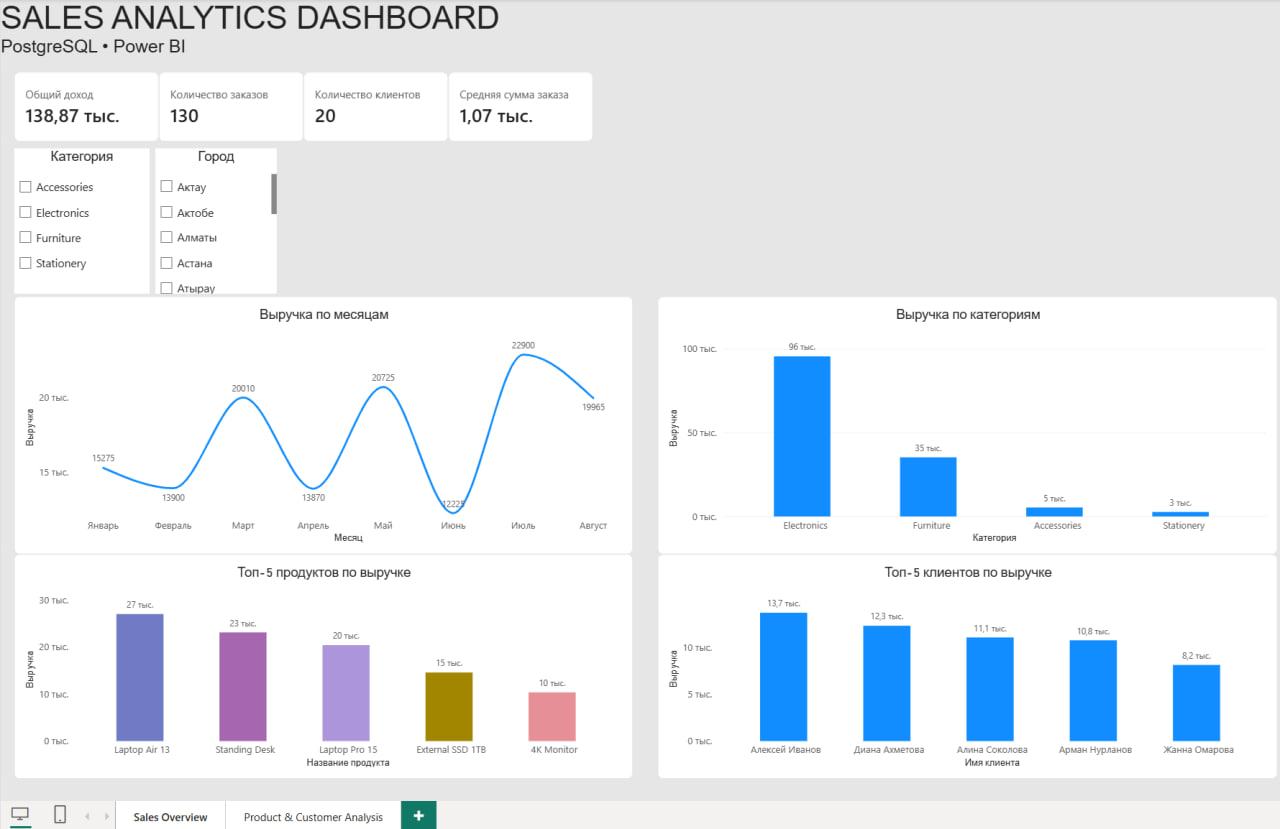

What the dashboard file says about the page in this screenshot:
{"tool":"powerbi","page":{"name":"Sales Overview","canvas":[1920,1200],"ordinal":0},"visuals":[{"type":"cardVisual","fields":{"Data":["order_items.Total Revenue"]},"box":[20.6,108.7,216.6,105],"z":0},{"type":"cardVisual","fields":{"Data":["CountNonNull(orders.order_id)"]},"box":[236.8,108.7,216.6,105],"z":1000},{"type":"cardVisual","fields":{"Data":["CountNonNull(customers.customer_id)"]},"box":[452.9,108.7,216.1,104.6],"z":2000},{"type":"cardVisual","fields":{"Data":["order_items.Average_Order_Value"]},"box":[669,108.7,216.6,105],"z":3000},{"type":"lineChart","title":"Выручка по месяцам","fields":{"Category":["orders.Month_Name"],"Y":["order_items.Total Revenue"]},"box":[20.6,445,925,385.4],"z":4000},{"type":"clusteredColumnChart","title":"Выручка по категориям","fields":{"Category":["products.category"],"Y":["order_items.Total Revenue"]},"box":[982.9,445,926.4,385.4],"z":5000},{"type":"clusteredColumnChart","title":"Топ-5 продуктов по выручке","fields":{"Category":["products.product_name"],"Y":["order_items.Total Revenue"]},"box":[20.6,830.4,925,335.9],"z":6000},{"type":"clusteredColumnChart","title":"Топ-5 клиентов по выручке","fields":{"Category":["customers.name"],"Y":["order_items.Total Revenue"]},"box":[982.9,830.4,926.4,335.9],"z":7000},{"type":"slicer","title":"Категория","fields":{"Values":["products.category"]},"box":[20.6,223.4,202.4,217.5],"z":8000},{"type":"slicer","title":"Город","fields":{"Values":["customers.city"]},"box":[231.3,223.4,181.7,217.5],"z":9000},{"type":"textbox","box":[0,0,797,86.7],"z":10000}]}

Visuals, with their boxes on the page's 1920x1200 design canvas (x1, y1, x2, y2). These are canvas units, not pixel positions in the 1280x829 screenshot, which may show the page scaled, cropped or inside an application window:
cardVisual - order_items.Total Revenue: <box>21,109,237,214</box>
cardVisual - CountNonNull(orders.order_id): <box>237,109,453,214</box>
cardVisual - CountNonNull(customers.customer_id): <box>453,109,669,213</box>
cardVisual - order_items.Average_Order_Value: <box>669,109,886,214</box>
"Выручка по месяцам" lineChart: <box>21,445,946,830</box>
"Выручка по категориям" clusteredColumnChart: <box>983,445,1909,830</box>
"Топ-5 продуктов по выручке" clusteredColumnChart: <box>21,830,946,1166</box>
"Топ-5 клиентов по выручке" clusteredColumnChart: <box>983,830,1909,1166</box>
"Категория" slicer: <box>21,223,223,441</box>
"Город" slicer: <box>231,223,413,441</box>
textbox: <box>0,0,797,87</box>
